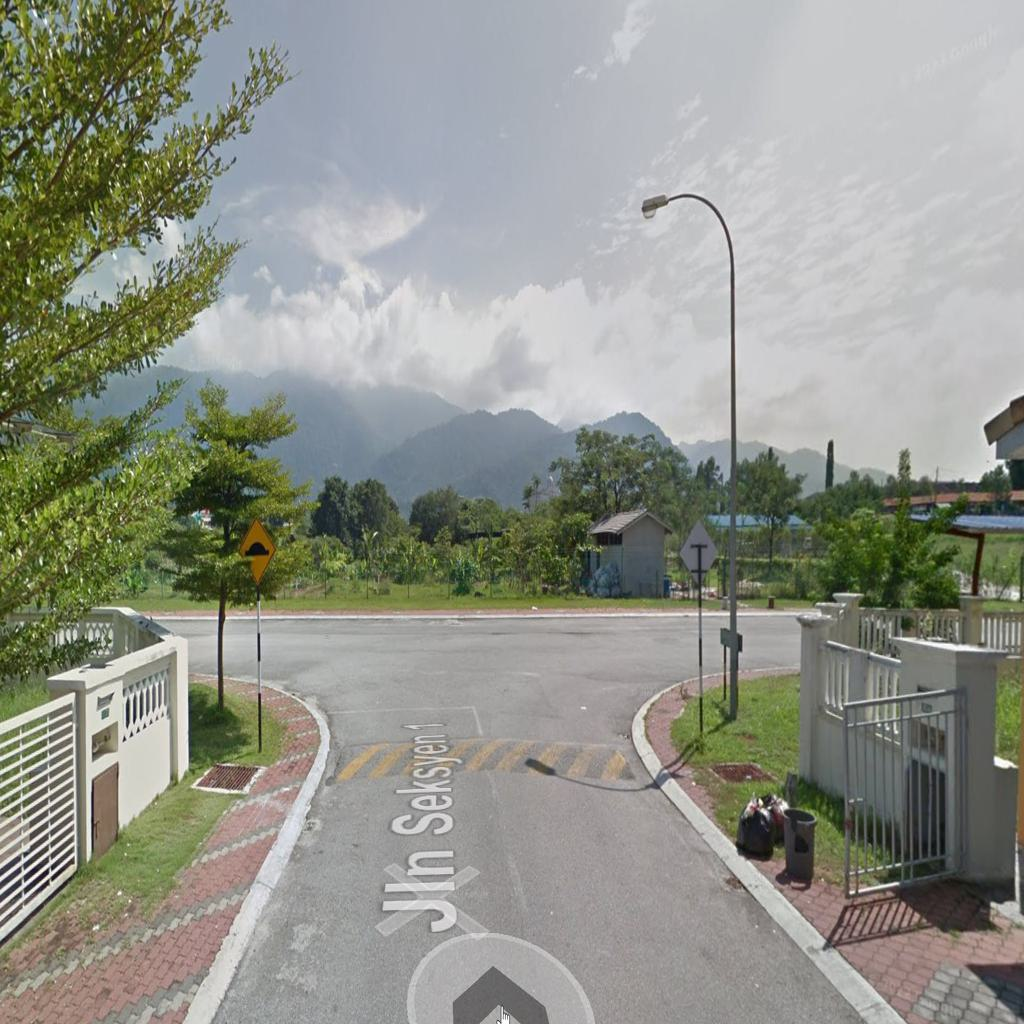Junction: (199, 578, 375, 766), (607, 585, 791, 742)
